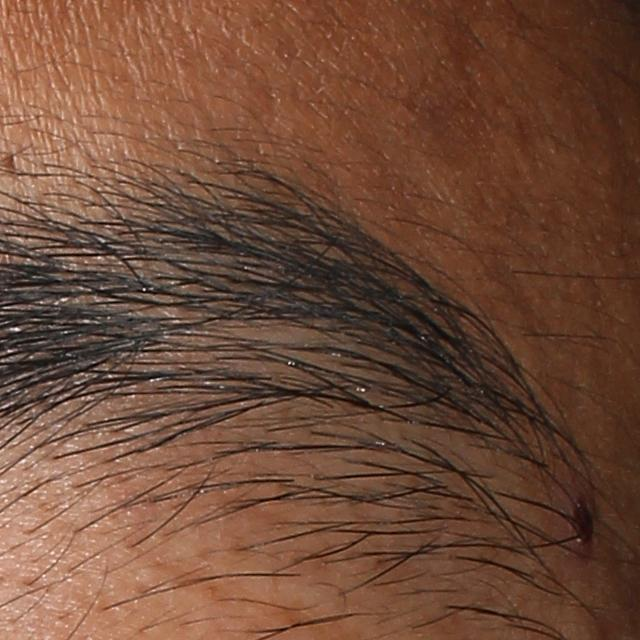nevus: (562, 491, 601, 550), (1, 149, 24, 177)
